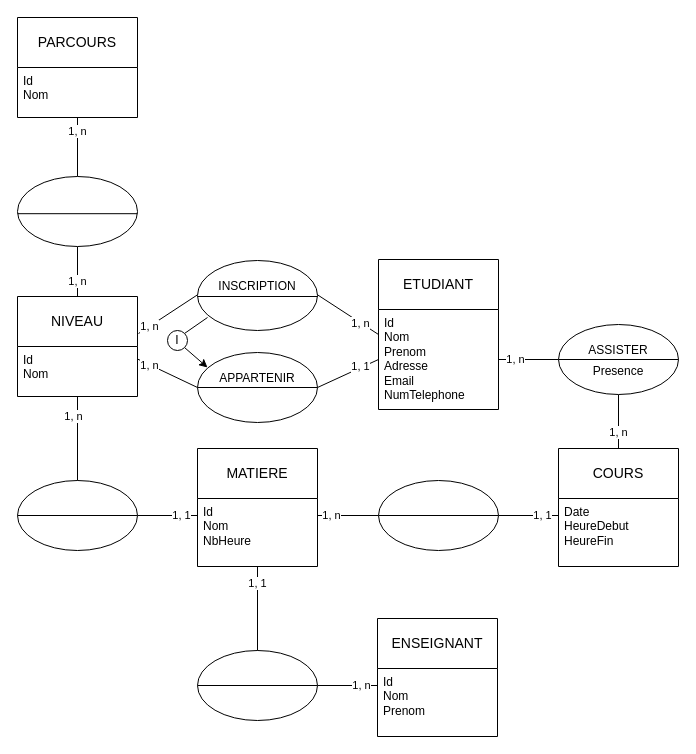
Image size: 696x754. Some labels were removed from this diagram. The shapes that lost their labels are listed below. From the top down, each one's centre as x and y in pixels, then its label:
At point (77, 211): "COMPRENDRE".
At point (77, 515): "CONTENIR".
At point (438, 515): "S'EFFECTUER".
At point (257, 685): "ENSEIGNER".
